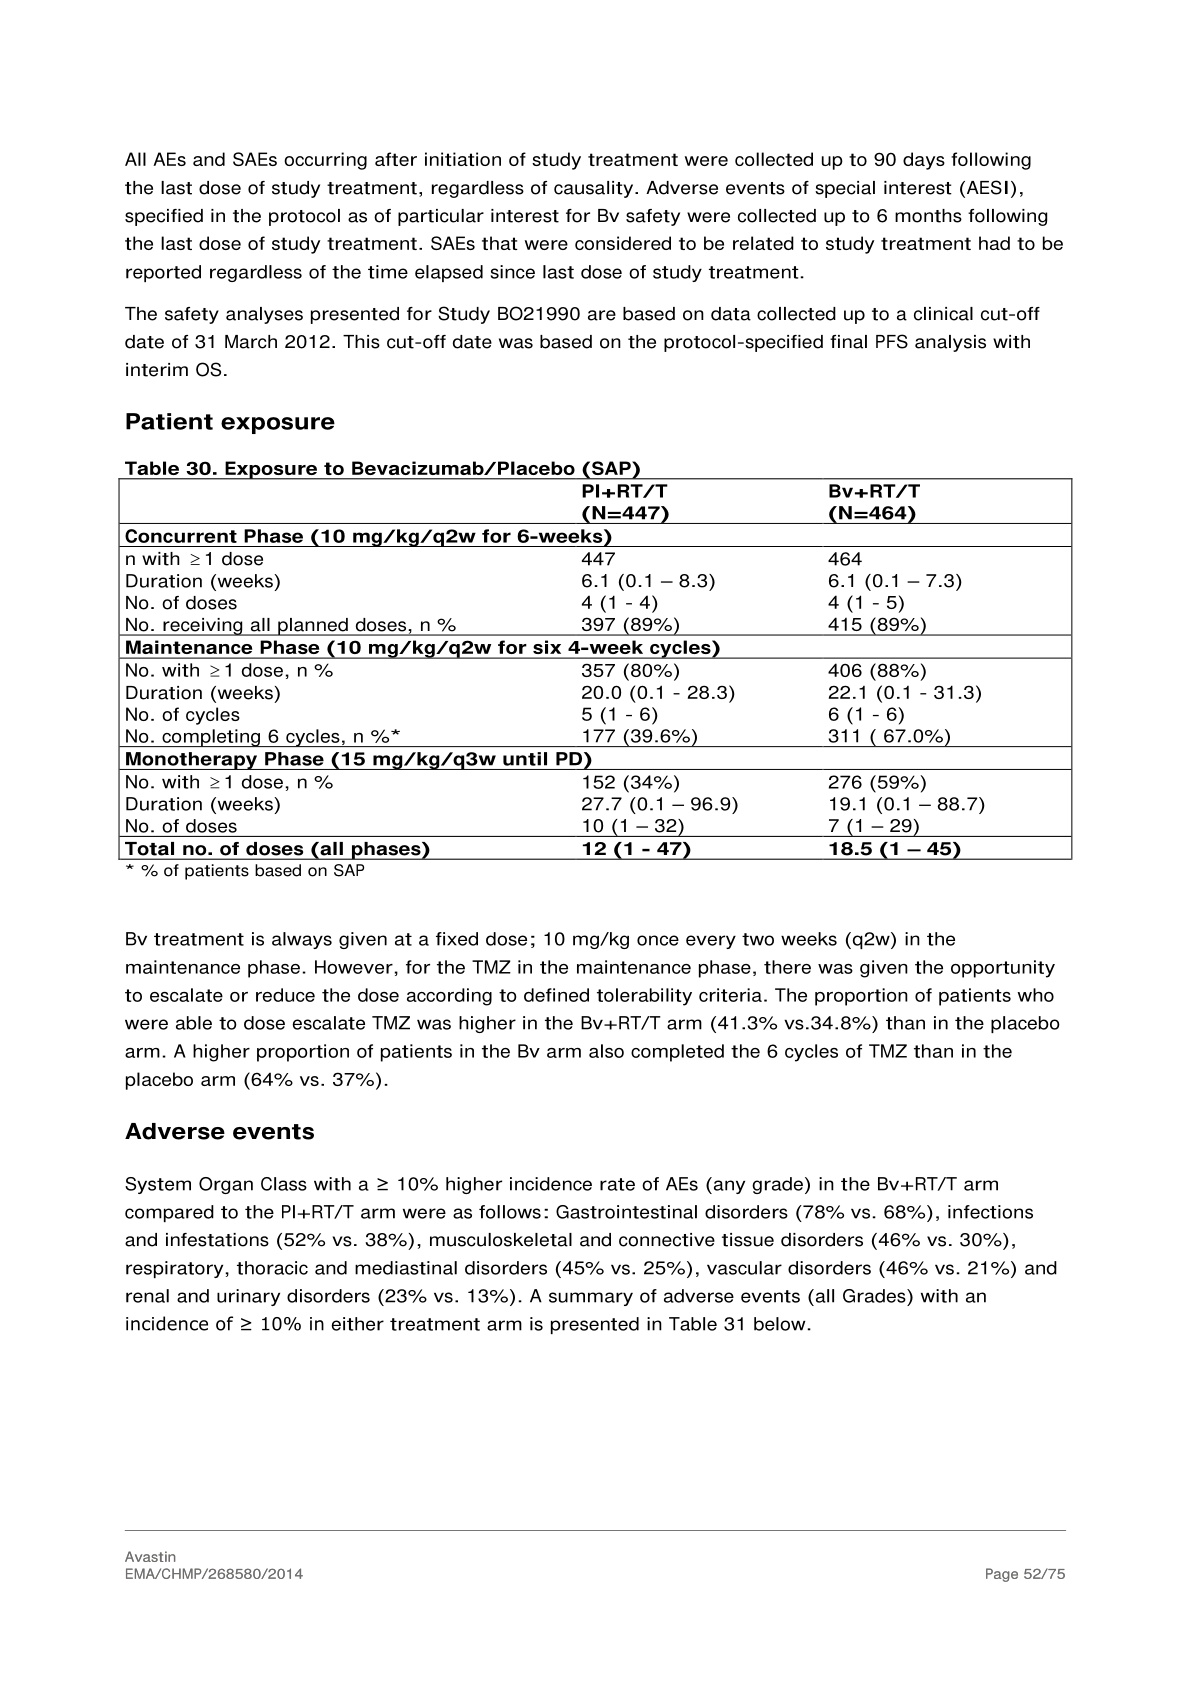merged_cells: (119, 475, 1072, 861)
